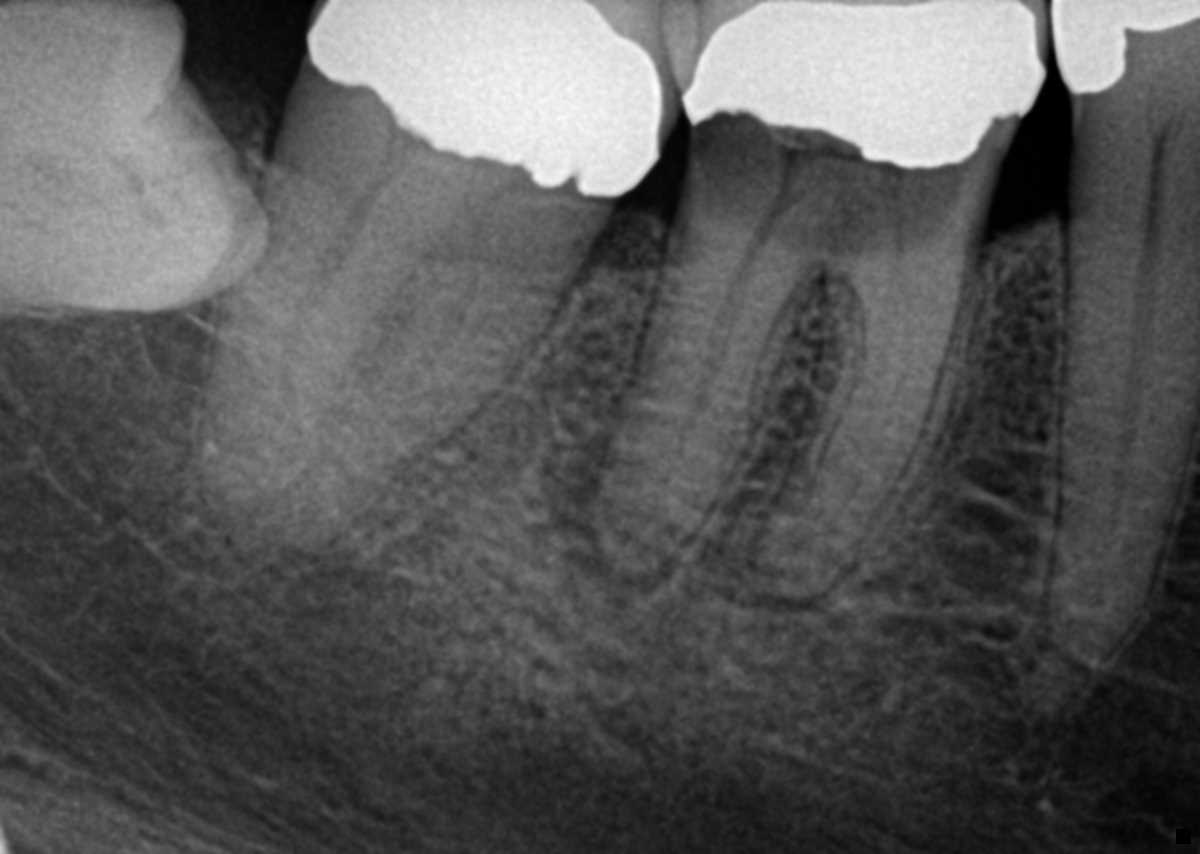Apical Lesion: (536, 423, 693, 615), (727, 571, 858, 614)
Distal Canal: (279, 194, 381, 437), (664, 249, 755, 487)
Distal Root: (207, 146, 422, 507), (601, 217, 809, 574)
Main Canal: (1107, 230, 1160, 556)
Main Root: (1045, 223, 1200, 666)
Mesial Canal: (408, 223, 482, 392)
Mesial Root: (281, 216, 588, 544), (748, 281, 960, 597)
decay: (696, 113, 959, 263)
